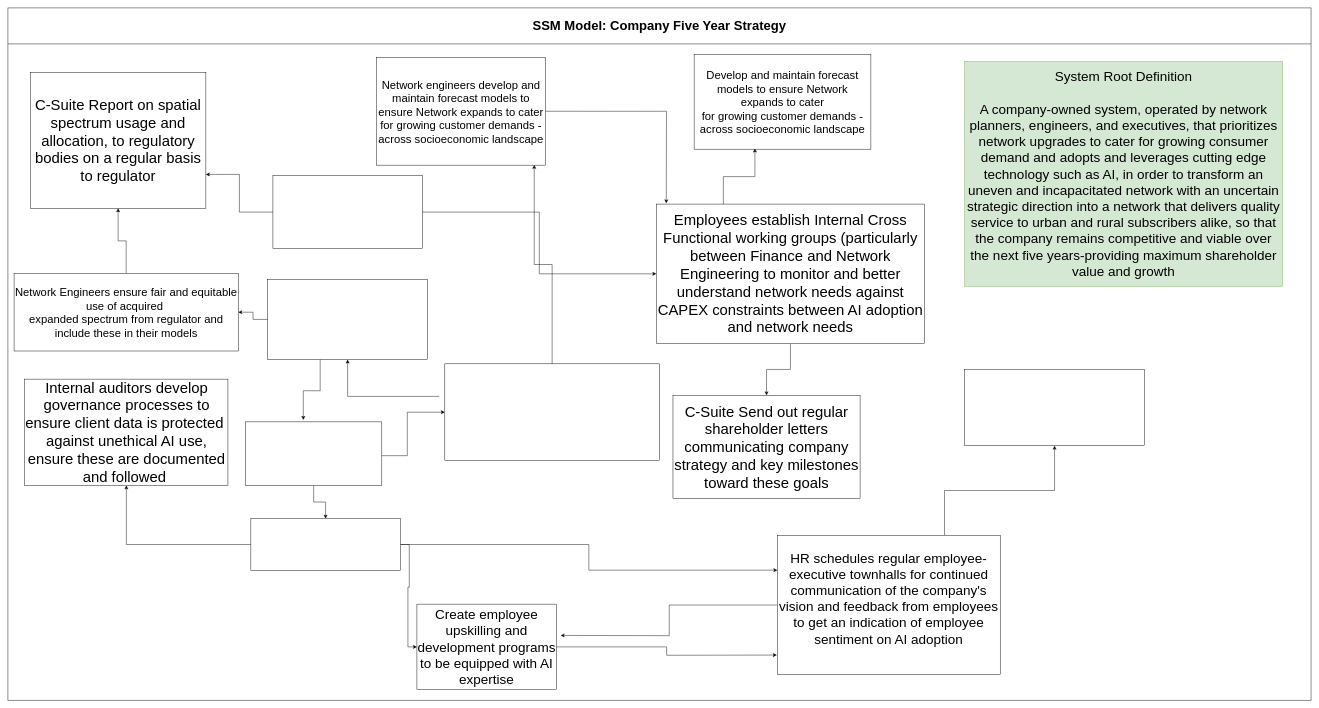
Image size: 1319x708. Some labels were removed from this diagram. Each missing label, with the centre of its shape:
Acquire additional spectrum from regulator to support network expansion efforts: point (347, 319)
Create environment of open communication and stakeholder buy-in: point (347, 212)
Employees adopt AI to streamline processes and operations: point (325, 544)
Grow network and technological capabilities: point (313, 453)
Monitor and evaluate feedback and key points from townhall: point (1054, 407)
Network planners and engineers assess current network performance and capacity: point (551, 412)
